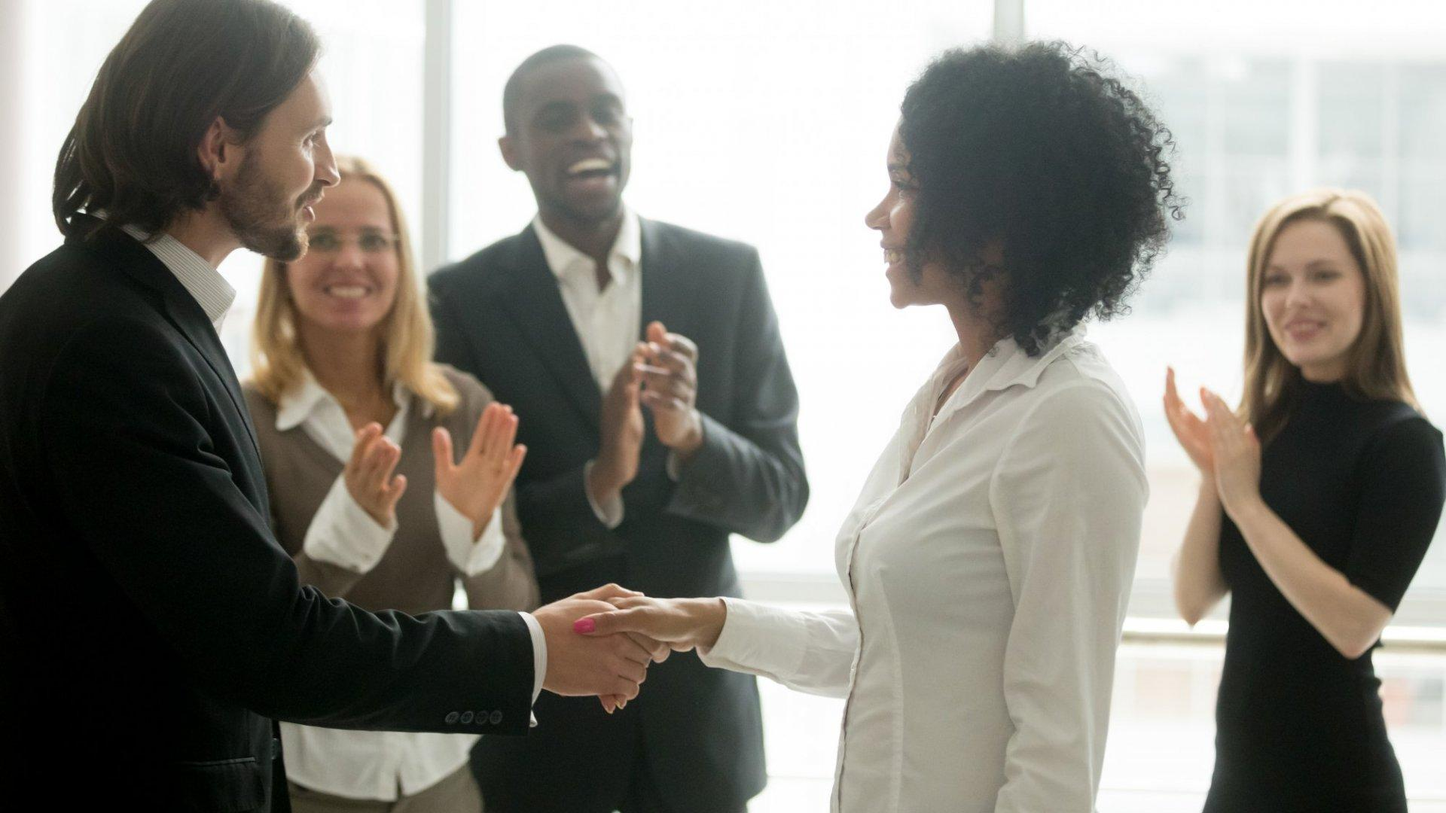No_Goggles: (1260, 259, 1358, 294), (260, 113, 333, 158)
